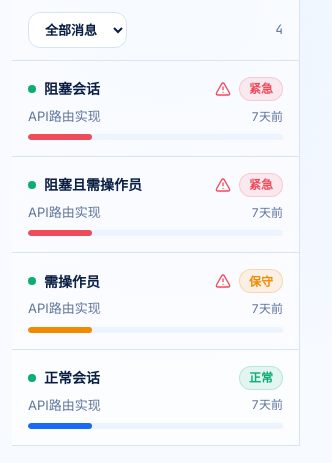
Scenario: TeamSessionRail filter › shows only sessions with needs_operator when filter is "@我的"
This screenshot has width=332, height=463.
Select "@我的" in the dropdown named "筛选 Session" at (78, 30), box [28,12,127,48]
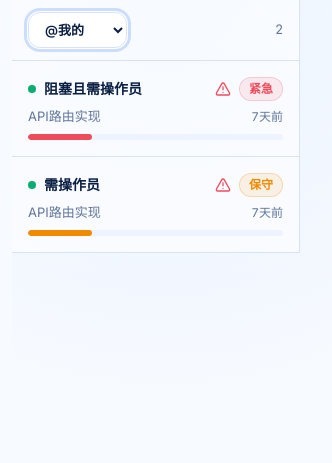
Expected: the text "需操作员" is shown, [44,176,100,193]
Expected: the button "正常会话" is gone
Expected: the button "阻塞会话" is gone
